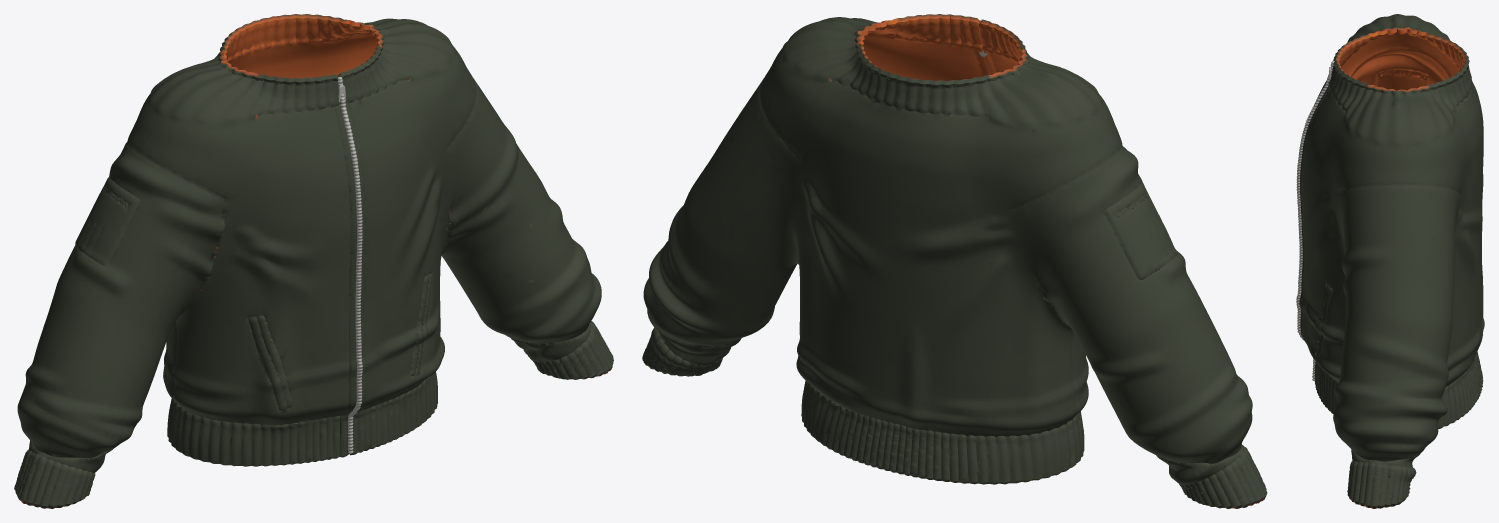
File: 01_chaqueta_bomber_pbr.glb
3 views of the same model, side by side, from view 1: azimuth 30°, elevation 25°; view 2: azimuth 150°, elevation 25°; view 3: azimuth 270°, elevation 25° (orthographic). The views are drawn at different scales.
Parts seen in each view (by area): view 1: Camiseta PBR, Cremallera; view 2: Camiseta PBR; view 3: Camiseta PBR, Cremallera.
Boxes of the visible parts, <box> form: Camiseta PBR: <box>14,14,613,508</box>; Cremallera: <box>337,77,362,453</box>; Camiseta PBR: <box>642,14,1267,508</box>; Camiseta PBR: <box>1299,14,1484,508</box>; Cremallera: <box>1296,61,1334,381</box>.
Size of the model in its own units: 1.01 by 0.6101 by 0.3203.
2 materials, 1 textured.
